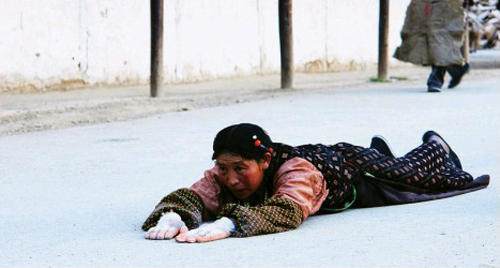fall: (131, 111, 488, 241)
